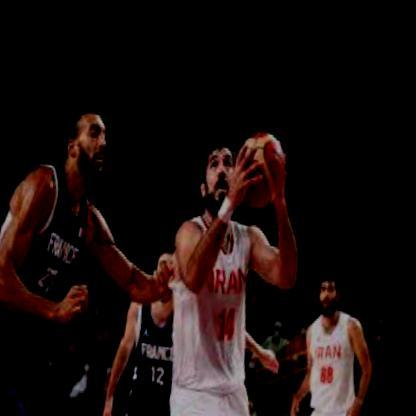basketball: (234, 118, 293, 205)
